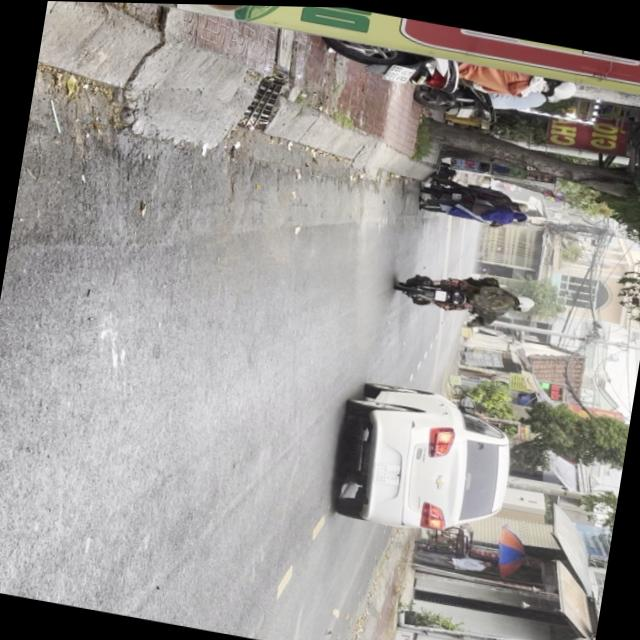helmet: (531, 74, 578, 103), (511, 293, 536, 312)
licenseplate: (304, 34, 582, 120), (392, 264, 538, 327)
nohelmet: (385, 63, 414, 85), (434, 289, 448, 301)
